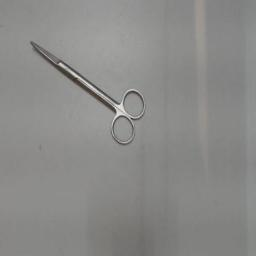Curved Mayo Scissors: (28, 35, 150, 149)
